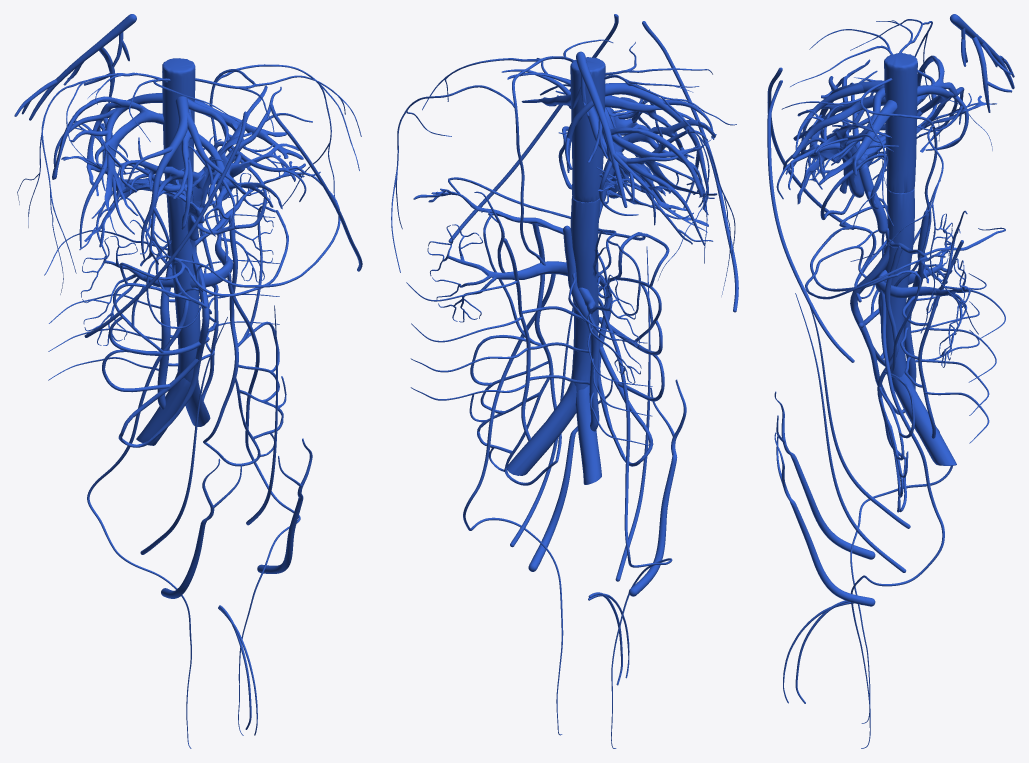
File: veins.abdomen.glb
3 views of the same model, side by side, from view 1: azimuth 30°, elevation 25°; view 2: azimuth 150°, elevation 25°; view 3: azimuth 270°, elevation 25° (orthographic). The views are drawn at different scales.
Visible parts, largest first — view 1: inferior_vena_cava, left_portal_vein, right_hepatic_vein, right_posterior_basal_segmental_vein, inferior_phrenic_vein, superior_phrenic_vein, superior_mesenteric_vein, right_testicular_vein, right_portal_vein, anterior_inferior_segmental_tributary_of_middle_hepatic_vein, left_testicular_vein, left_renal_vein (+23 smaller); view 2: inferior_vena_cava, right_posterior_basal_segmental_vein, inferior_phrenic_vein, right_hepatic_vein, left_portal_vein, left_common_iliac_vein, lumbar_vein, left_renal_vein, superior_phrenic_vein, left_testicular_vein, right_ascending_lumbar_vein, right_common_iliac_vein (+23 smaller); view 3: inferior_vena_cava, left_portal_vein, inferior_phrenic_vein, left_common_iliac_vein, left_testicular_vein, lumbar_vein, left_renal_vein, right_posterior_basal_segmental_vein, left_musculophrenic_vein, right_superior_epigastric_vein, superior_mesenteric_vein, left_superior_epigastric_vein (+27 smaller).
Part boxes in pixels (box(x1,y1,x2,y2)): inferior_vena_cava: box(162, 58, 200, 382); left_portal_vein: box(103, 85, 312, 266); right_hepatic_vein: box(52, 96, 164, 235); right_posterior_basal_segmental_vein: box(14, 14, 136, 120); inferior_phrenic_vein: box(195, 64, 361, 261); superior_phrenic_vein: box(17, 72, 242, 294); superior_mesenteric_vein: box(118, 240, 209, 447); right_testicular_vein: box(87, 300, 191, 748); right_portal_vein: box(61, 116, 193, 254); anterior_inferior_segmental_tributary_of_middle_hepatic_vein: box(141, 96, 189, 261); left_testicular_vein: box(227, 272, 300, 735); left_renal_vein: box(190, 173, 273, 288); inferior_vena_cava: box(570, 57, 605, 391); right_posterior_basal_segmental_vein: box(565, 51, 653, 207); inferior_phrenic_vein: box(391, 39, 613, 272); right_hepatic_vein: box(602, 127, 717, 210); left_portal_vein: box(507, 58, 716, 214); left_common_iliac_vein: box(506, 382, 576, 475); lumbar_vein: box(406, 273, 652, 445); left_renal_vein: box(427, 224, 567, 322); superior_phrenic_vein: box(604, 42, 736, 296); left_testicular_vein: box(463, 274, 563, 735); right_ascending_lumbar_vein: box(563, 225, 599, 431); right_common_iliac_vein: box(575, 385, 601, 484); inferior_vena_cava: box(880, 53, 917, 379); left_portal_vein: box(777, 59, 891, 204); inferior_phrenic_vein: box(781, 78, 978, 334); left_common_iliac_vein: box(892, 372, 956, 465); left_testicular_vein: box(850, 289, 944, 748); lumbar_vein: box(911, 227, 1005, 443); left_renal_vein: box(875, 258, 970, 367); right_posterior_basal_segmental_vein: box(950, 14, 1014, 112); left_musculophrenic_vein: box(767, 80, 854, 362); right_superior_epigastric_vein: box(774, 391, 875, 559); superior_mesenteric_vein: box(850, 228, 904, 414); left_superior_epigastric_vein: box(774, 432, 865, 604).
Size of the model in its own units: 0.2357 by 0.5277 by 0.1682.
